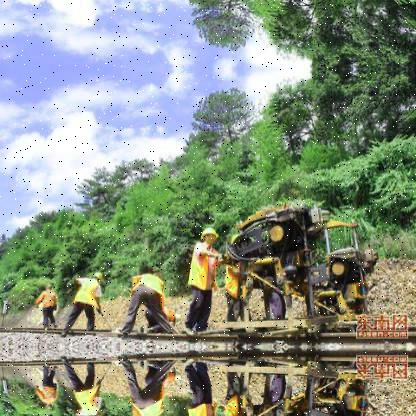Helmet: (200, 226, 221, 248), (90, 270, 104, 286)
